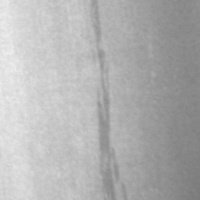inclusion: (76, 14, 132, 199)
